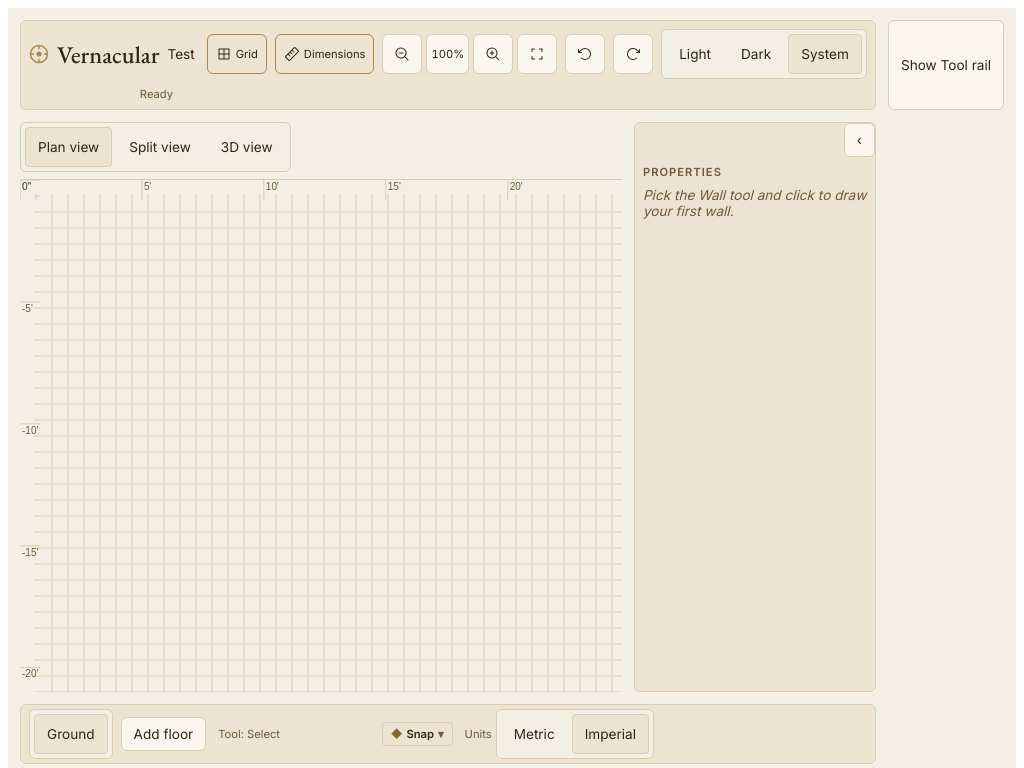
it: EditorShell › reveals the 3D preview when the 3D view mode is selected
This screenshot has width=1024, height=768.
Check: the element "3d preview" is not shown
Click the button "3D view": click(247, 147) [208,127,286,167]
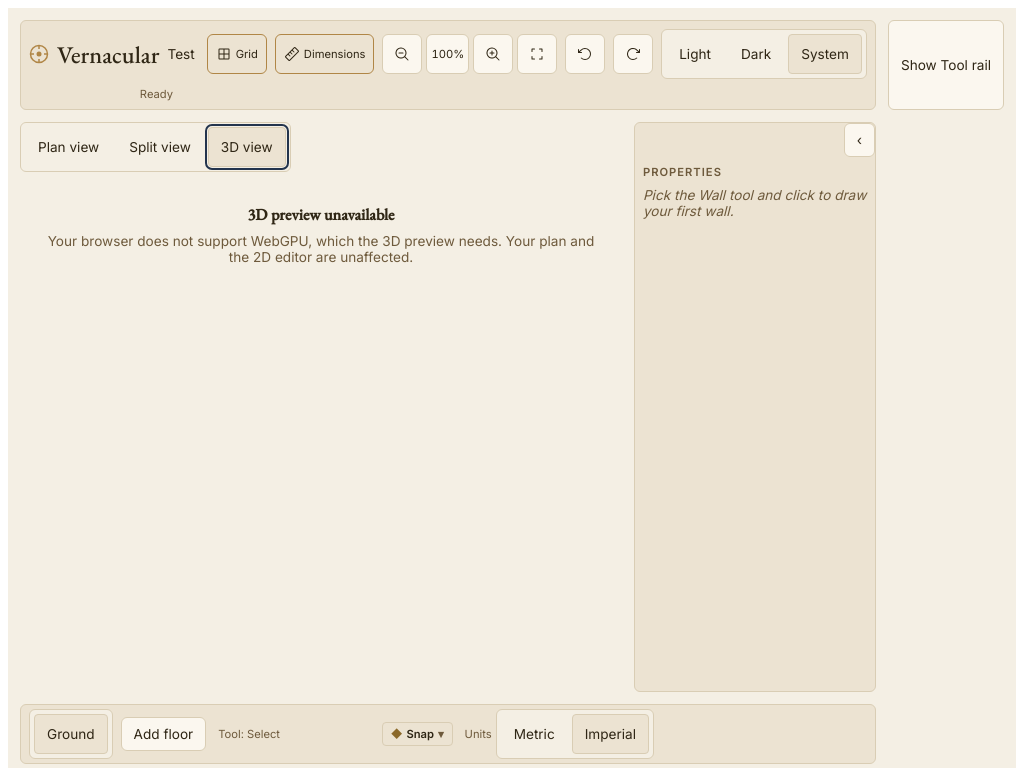
Check: the element "3D preview" is shown, box [48,204,594,265]
